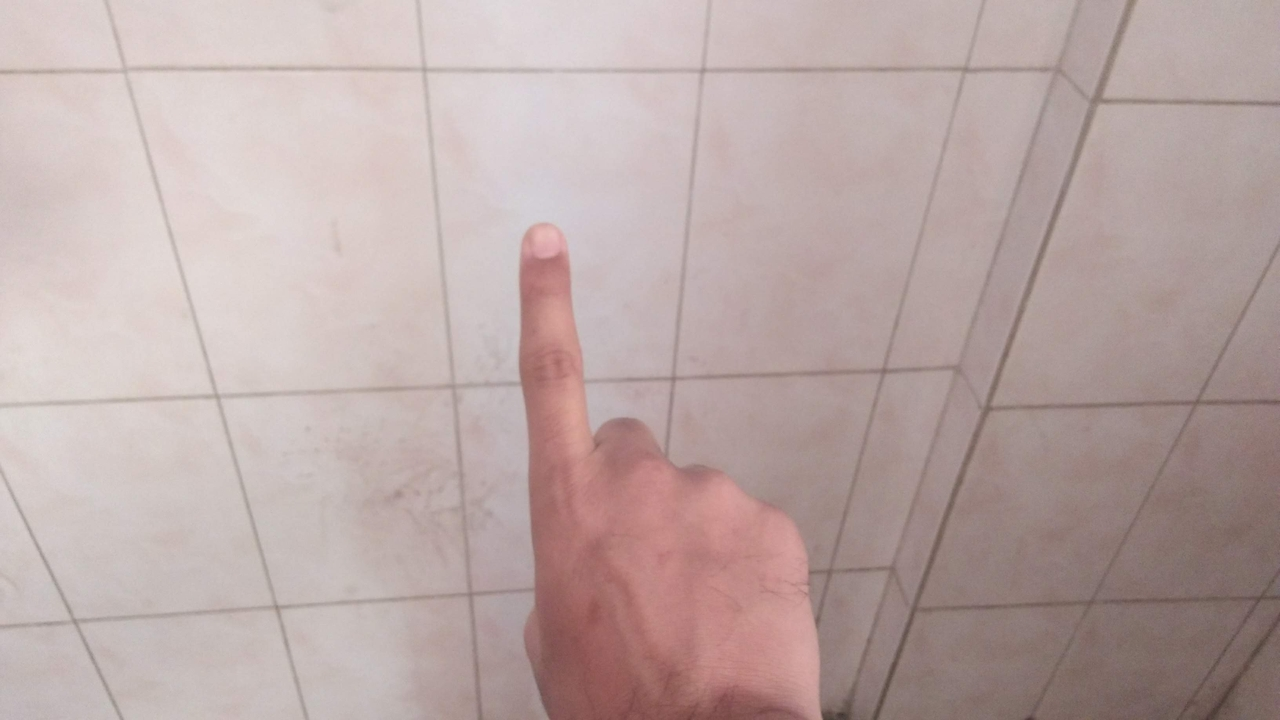fingertip: (510, 214, 576, 274)
